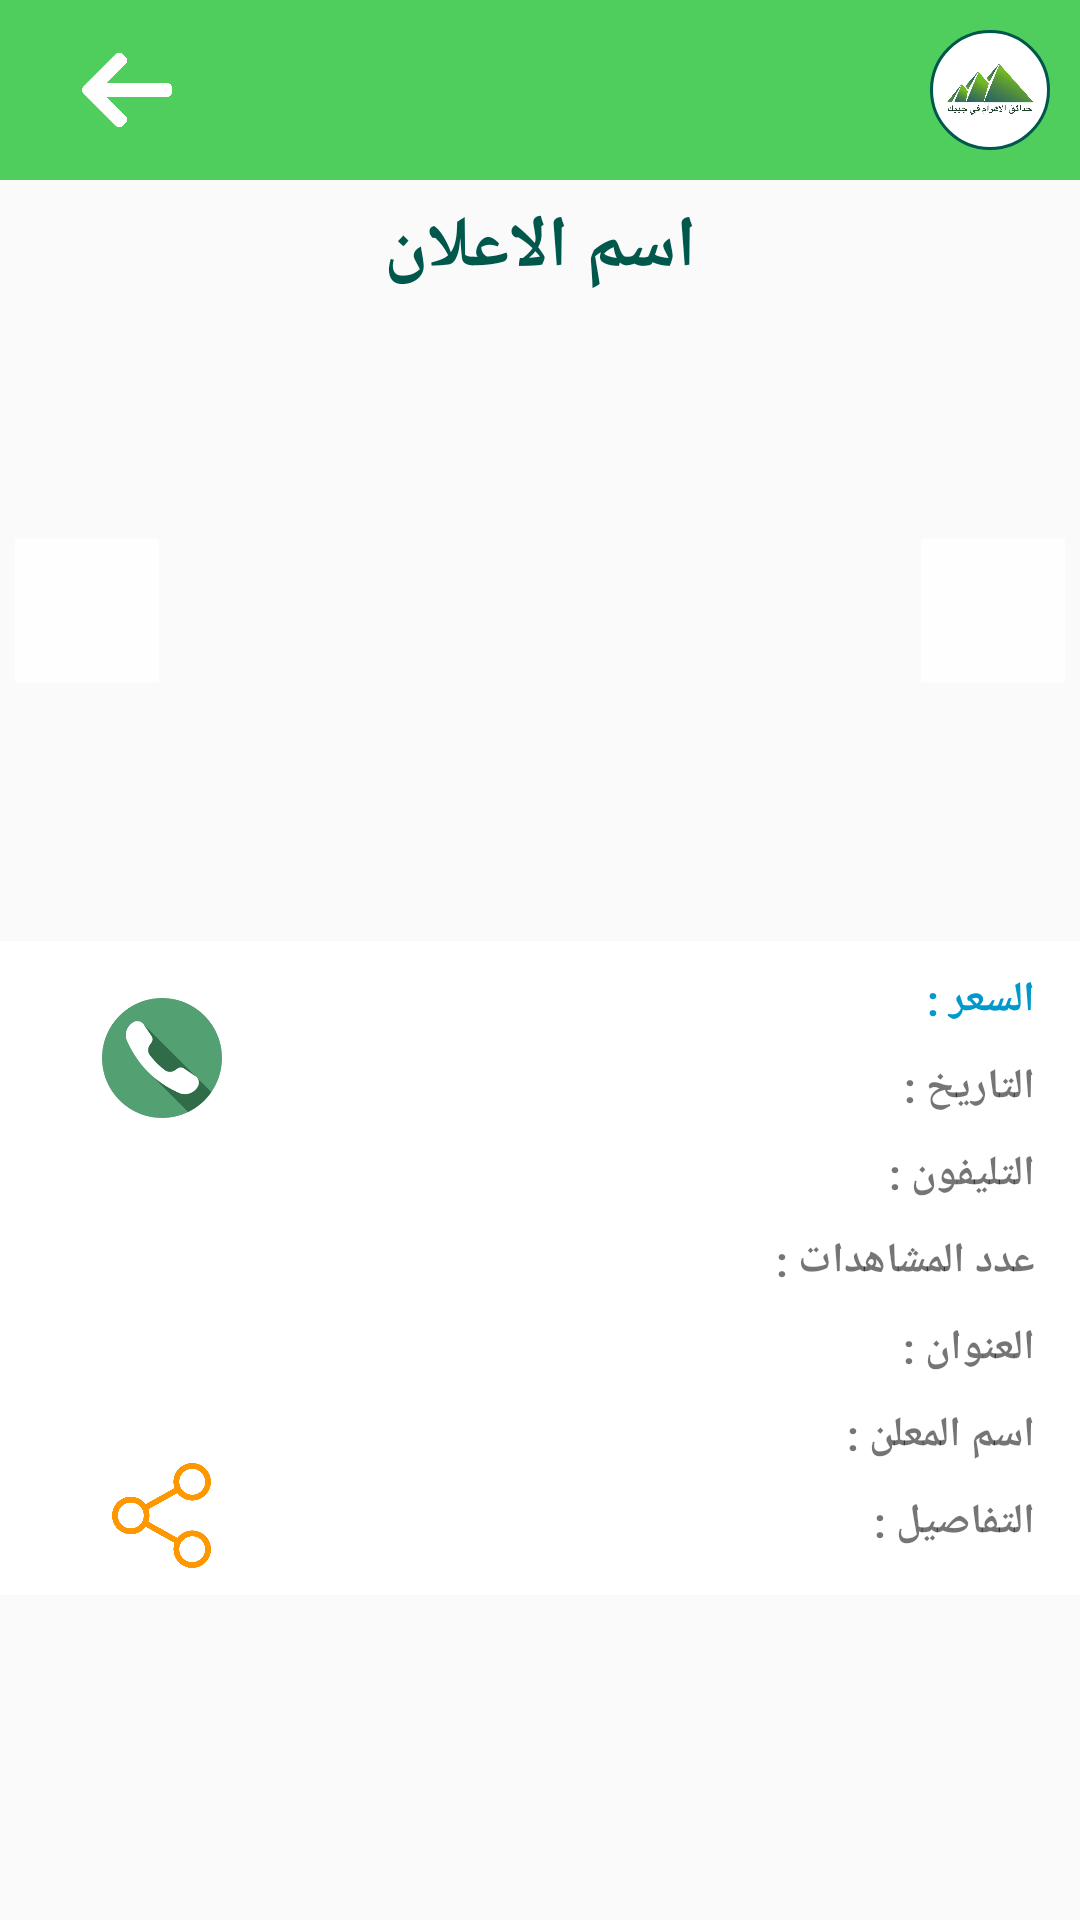

Screen size 1080*1920. Icon name, then its box in pixels as Rect(x1, y1, x2, y2):
phone: Rect(102, 998, 222, 1118)
share menu: Rect(112, 1463, 211, 1568)
